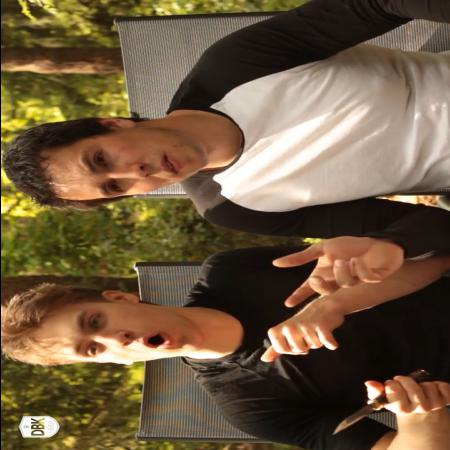long weapon: (320, 368, 450, 440)
